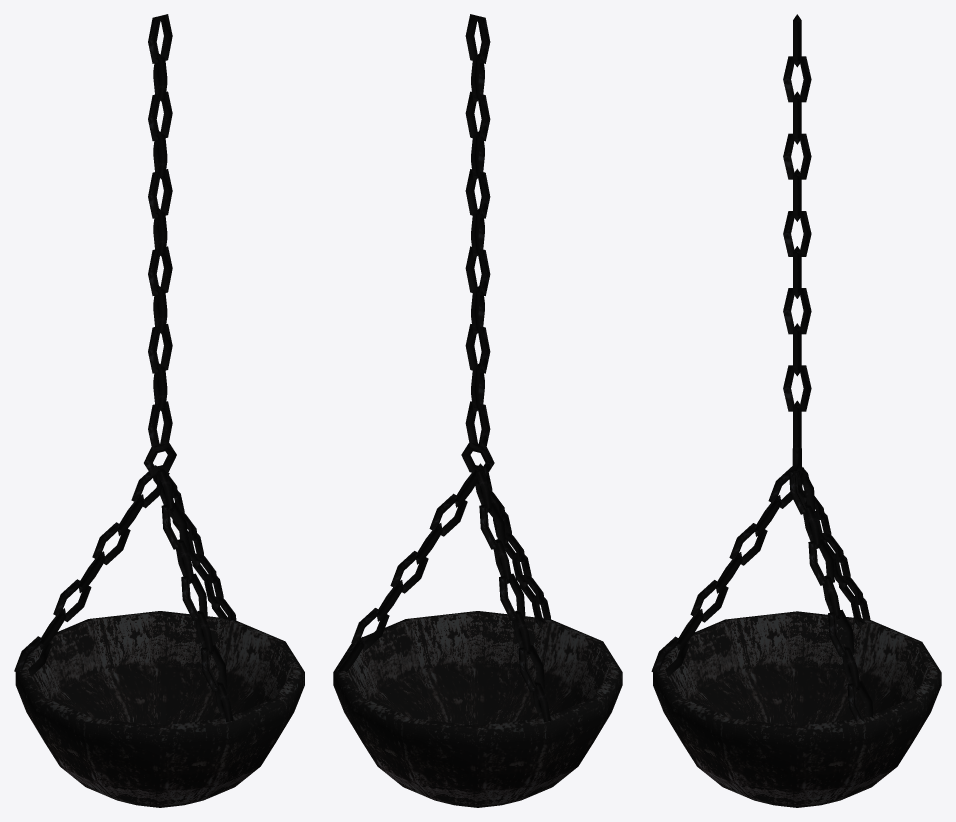
The model's file is mm6_deco_brazier_unlit.glb.
The picture shows the model from 3 angles, left to right: view 1: azimuth 30°, elevation 25°; view 2: azimuth 150°, elevation 25°; view 3: azimuth 270°, elevation 25°; orthographic projection.
Parts seen in each view (by area): view 1: BrazierUnlit; view 2: BrazierUnlit; view 3: BrazierUnlit.
Boxes of the visible parts, box(x1,y1,x2,y2) form: BrazierUnlit: box(14, 14, 304, 807); BrazierUnlit: box(333, 14, 622, 807); BrazierUnlit: box(651, 14, 941, 807).
Size of the model in its own units: 0.5949 by 1.79 by 0.5983.
1 material, 1 textured.
